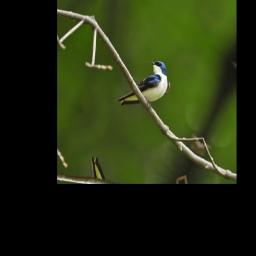Swallow: (115, 46, 178, 129)
